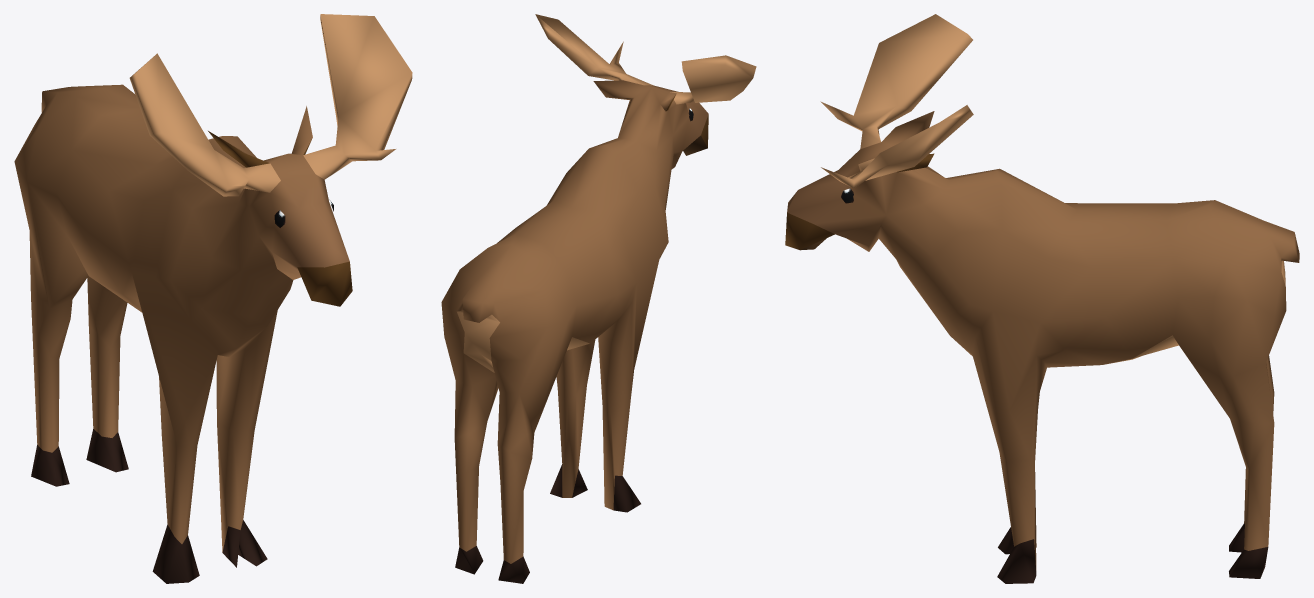
Rendered from 9faab1b5-e2d7-444c-8a22-a1b2740b641b.glb.
3 views of the same model, side by side, from view 1: azimuth 30°, elevation 25°; view 2: azimuth 150°, elevation 25°; view 3: azimuth 270°, elevation 25° (orthographic). The views are drawn at different scales.
Visible parts, largest first — view 1: Moose; view 2: Moose; view 3: Moose.
Part boxes in pixels (x1,y1,x2,y2): Moose: (14,14,412,583); Moose: (441,14,756,583); Moose: (785,14,1299,583).
Size of what is drawn, in the model's own units: 1.15 by 2.37 by 2.23.
Materials: 1 (1 with a texture image).
